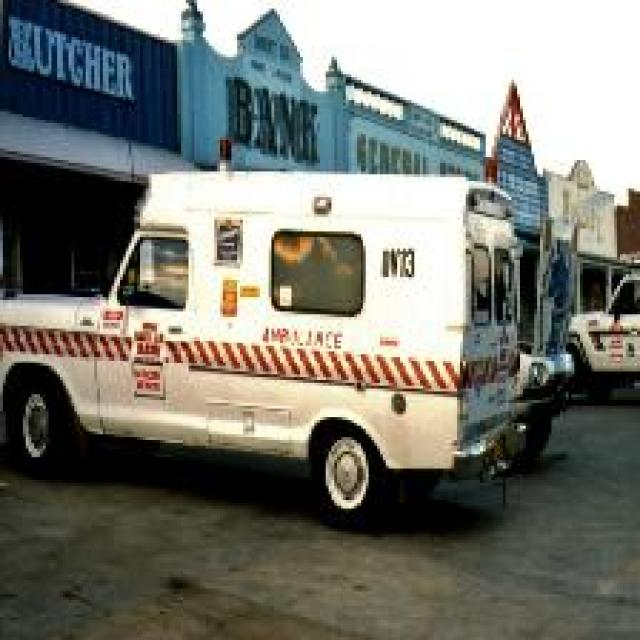Ambulance: (0, 145, 571, 528)
